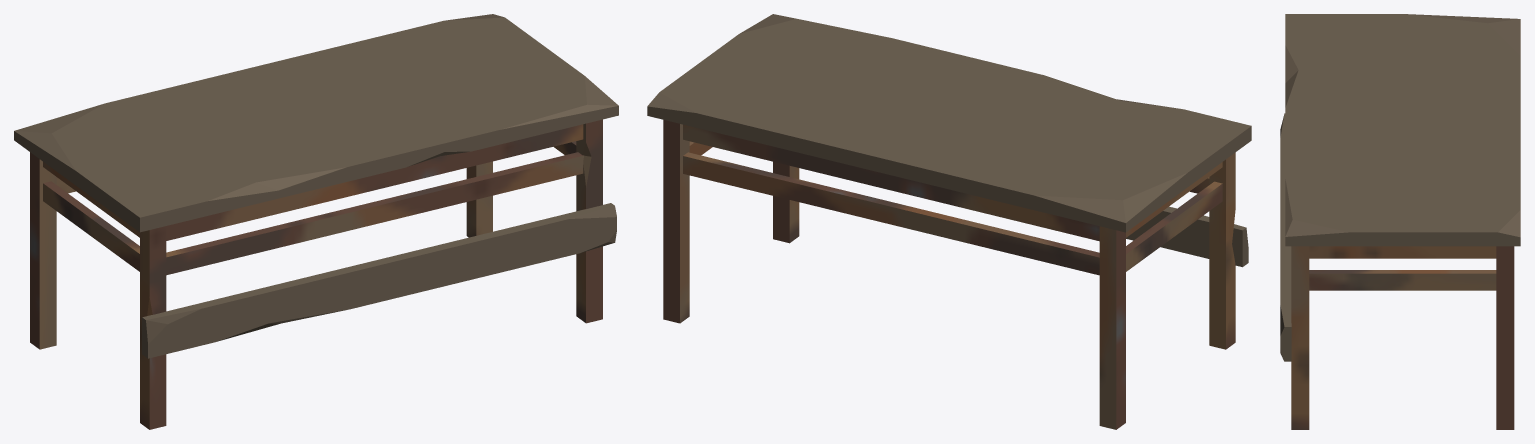
File: SM_Prop_Table_02.fbx
3 views of the same model, side by side, from view 1: azimuth 30°, elevation 25°; view 2: azimuth 150°, elevation 25°; view 3: azimuth 270°, elevation 25° (orthographic). The views are drawn at different scales.
Parts seen in each view (by area): view 1: SM_Prop_Table_02; view 2: SM_Prop_Table_02; view 3: SM_Prop_Table_02.
Boxes of the visible parts, x1,y1,x2,y2 form: SM_Prop_Table_02: (14, 14, 618, 429); SM_Prop_Table_02: (647, 14, 1251, 429); SM_Prop_Table_02: (1280, 14, 1520, 429).
Bounding box in the file's own units: 201 × 87.24 × 93.29.
